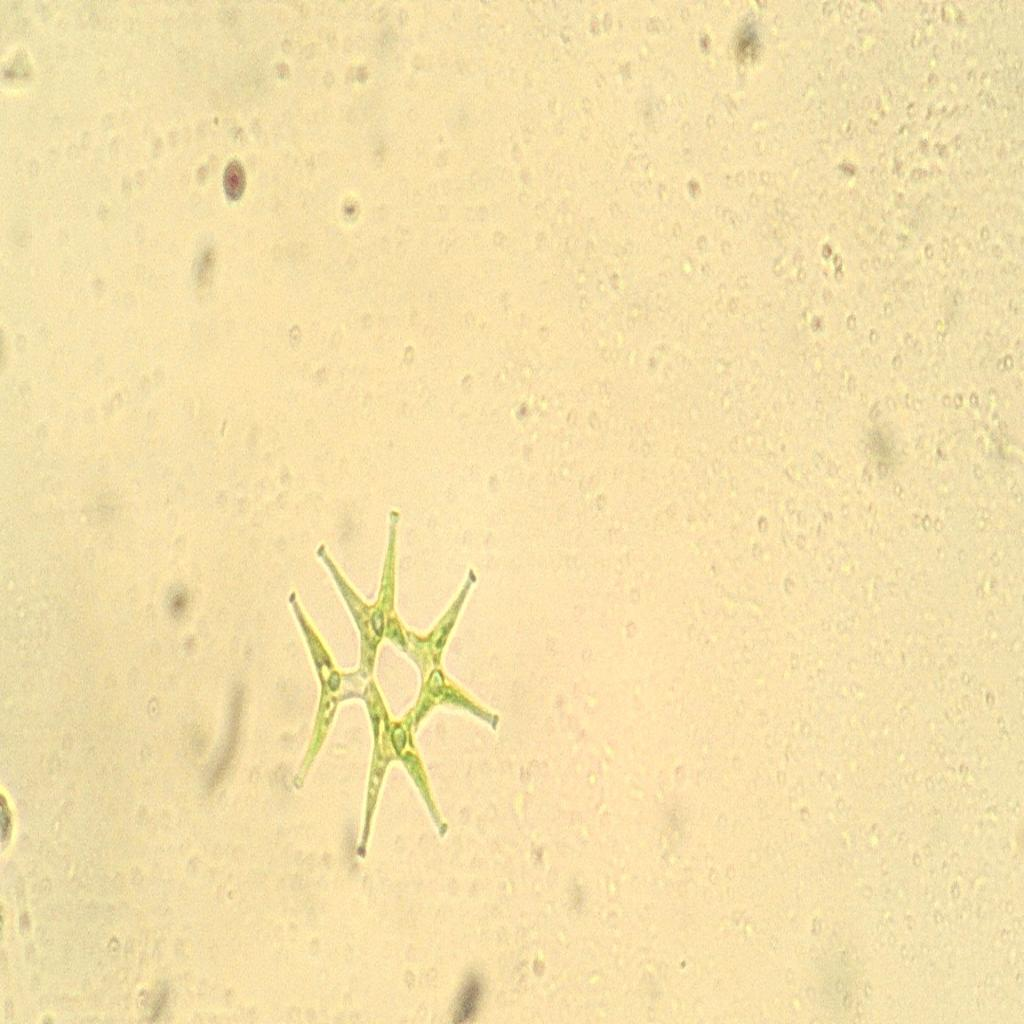Pediastrum_CT: (267, 495, 511, 897)
